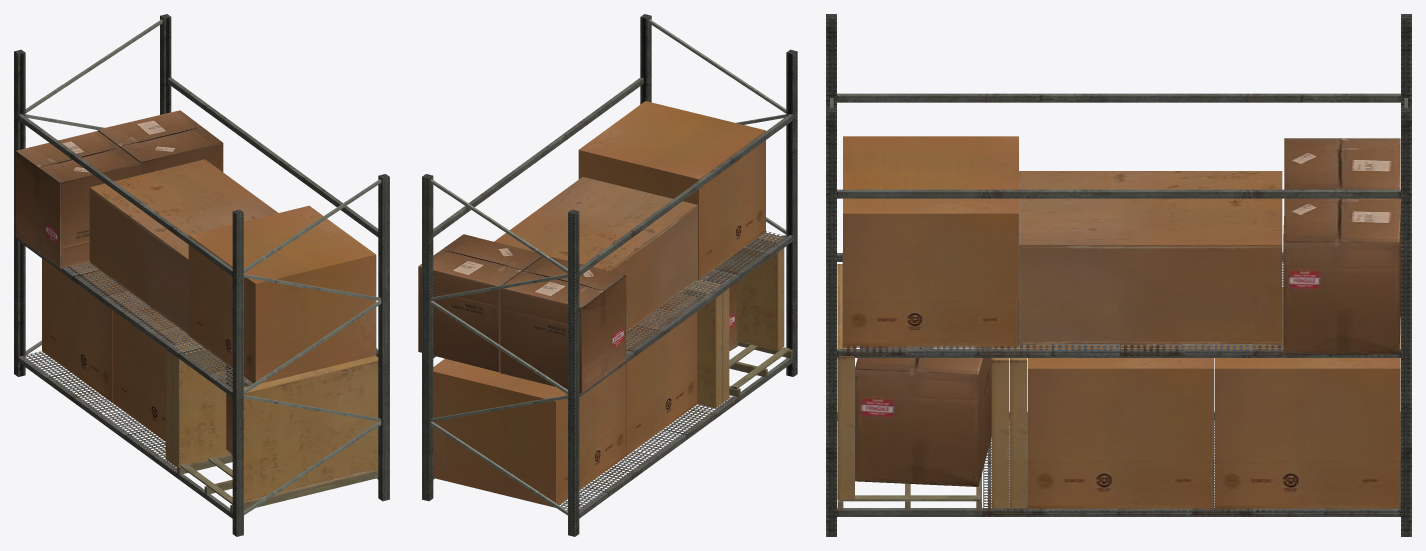
File: warehouse_shelf003.glb
3 renders of one model, left to right at view 1: azimuth 30°, elevation 25°; view 2: azimuth 150°, elevation 25°; view 3: azimuth 270°, elevation 25°, orthographic. The views are drawn at different scales.
Parts seen in each view (by area): view 1: 0_warehouse_shelves; view 2: 0_warehouse_shelves; view 3: 0_warehouse_shelves.
Boxes of the visible parts, box(x1,y1,x2,y2) form: 0_warehouse_shelves: box(14, 14, 389, 536); 0_warehouse_shelves: box(418, 14, 797, 536); 0_warehouse_shelves: box(826, 14, 1411, 536).
Size of the model in its own units: 1.73 by 3.25 by 4.06.
1 material, 1 textured.
